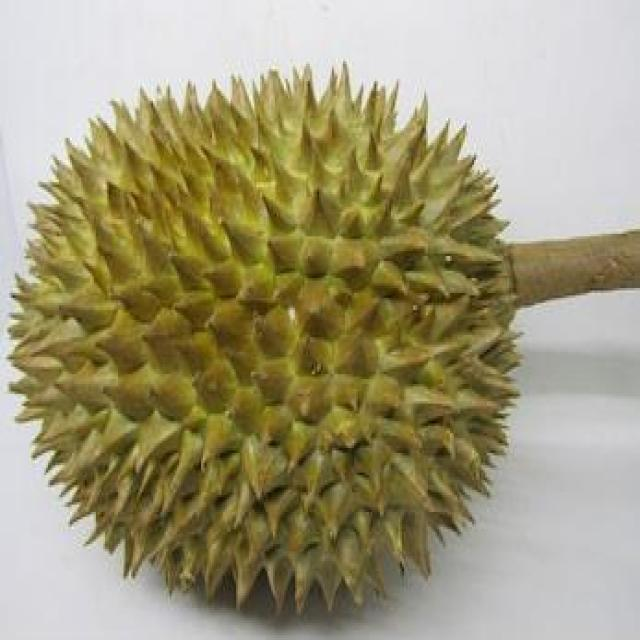immature: (5, 70, 522, 623)
